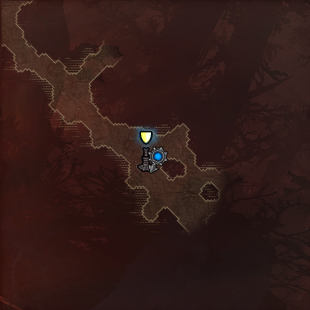ShieldPylon: (138, 129, 154, 172)
